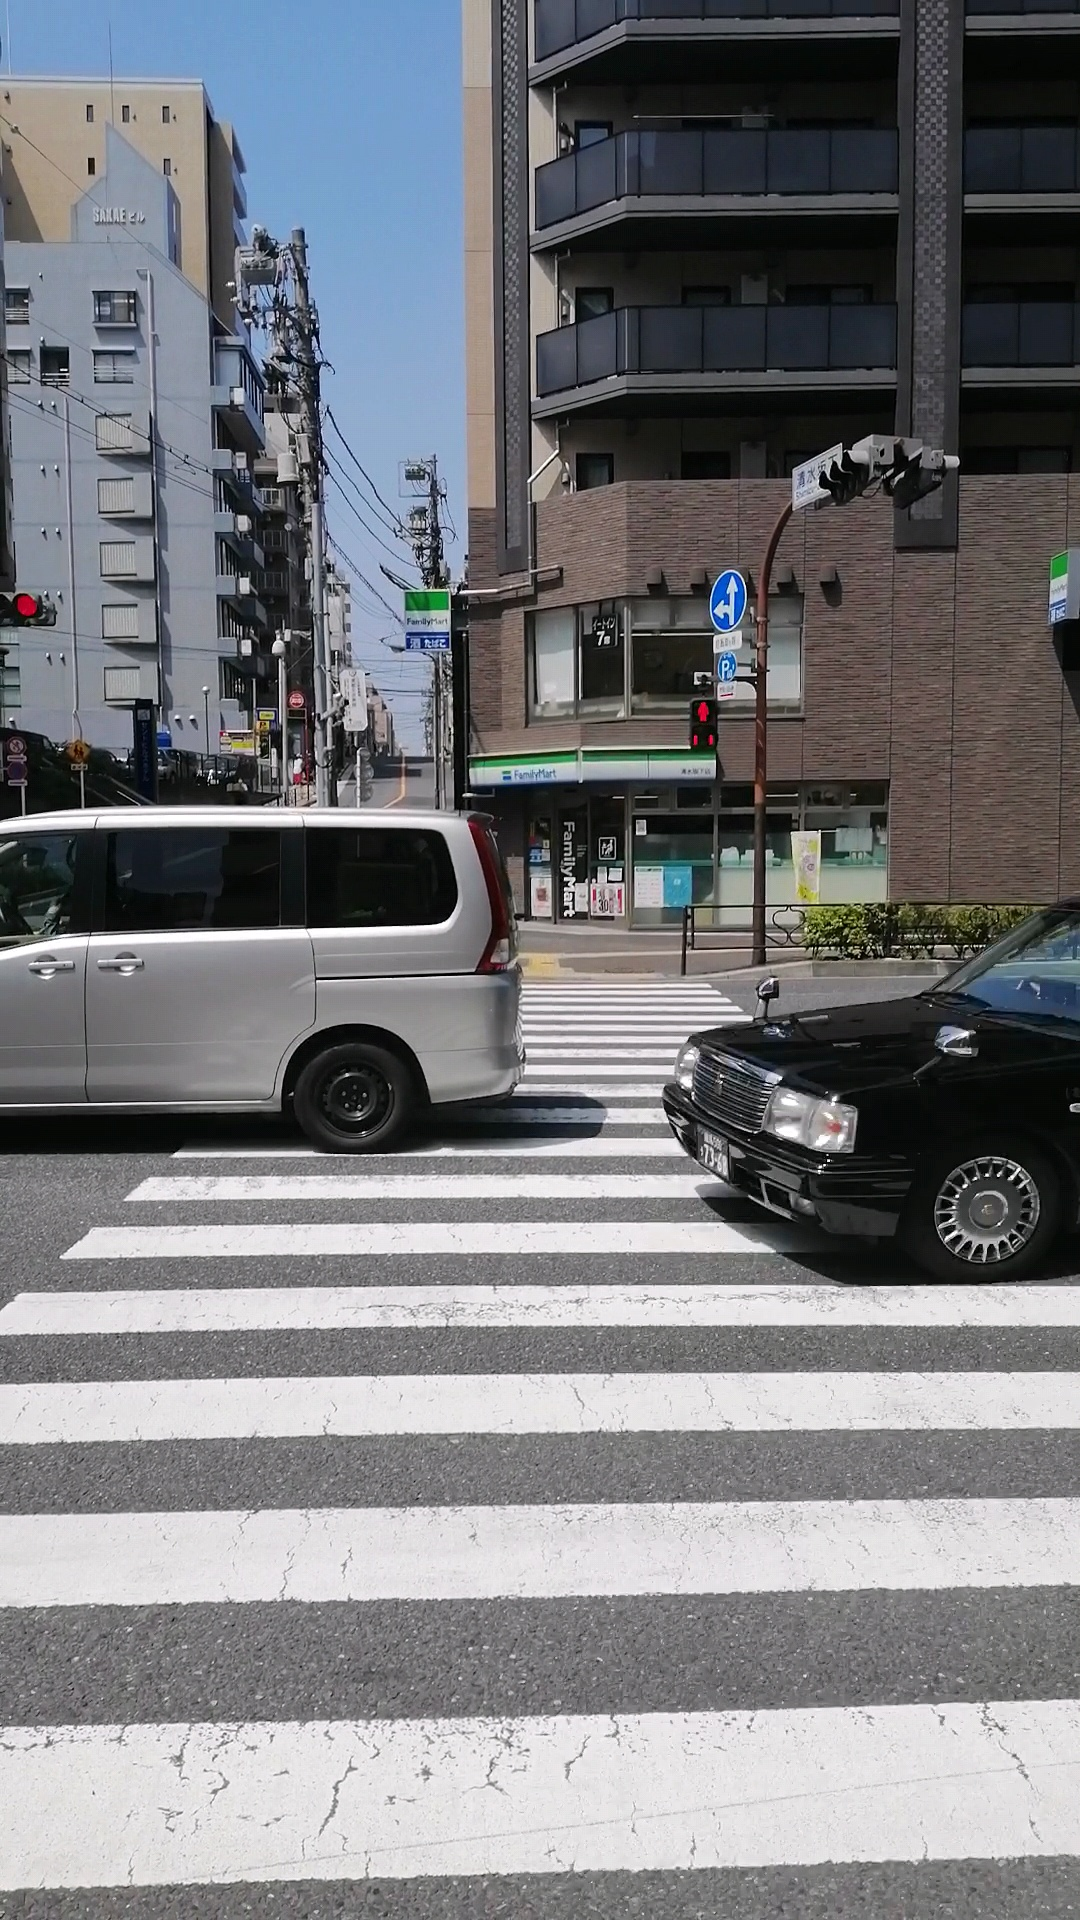red: (688, 696, 717, 753)
